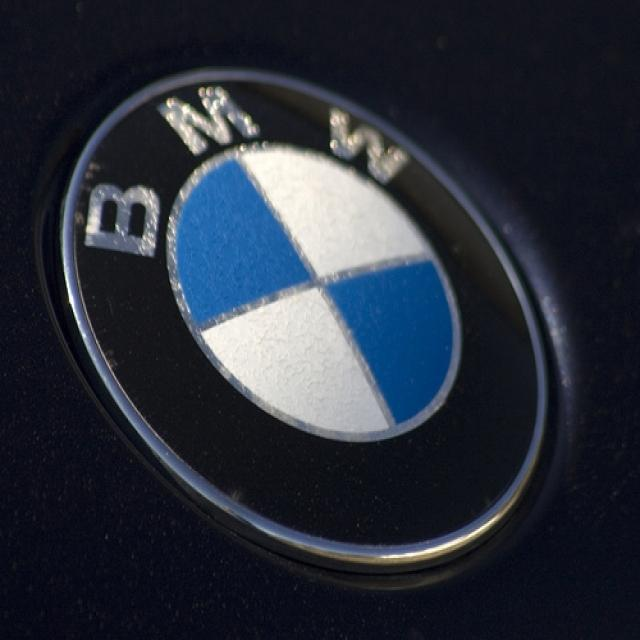bmw: (51, 58, 556, 587)
